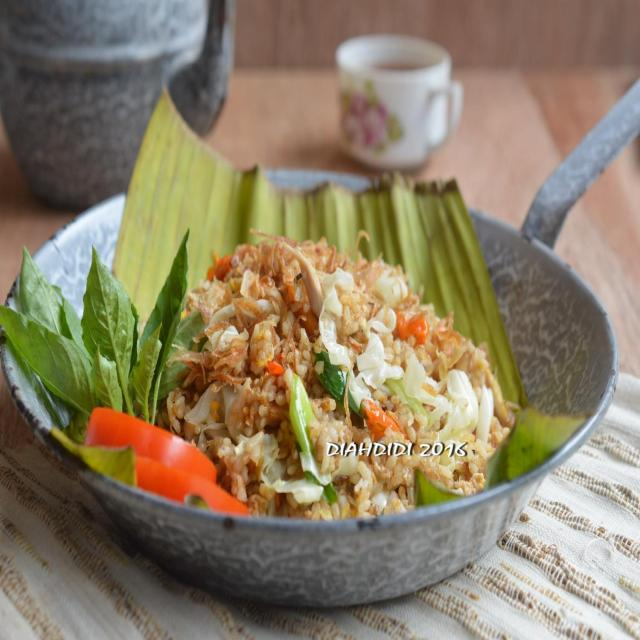Nasi Goreng: (162, 227, 513, 519)
